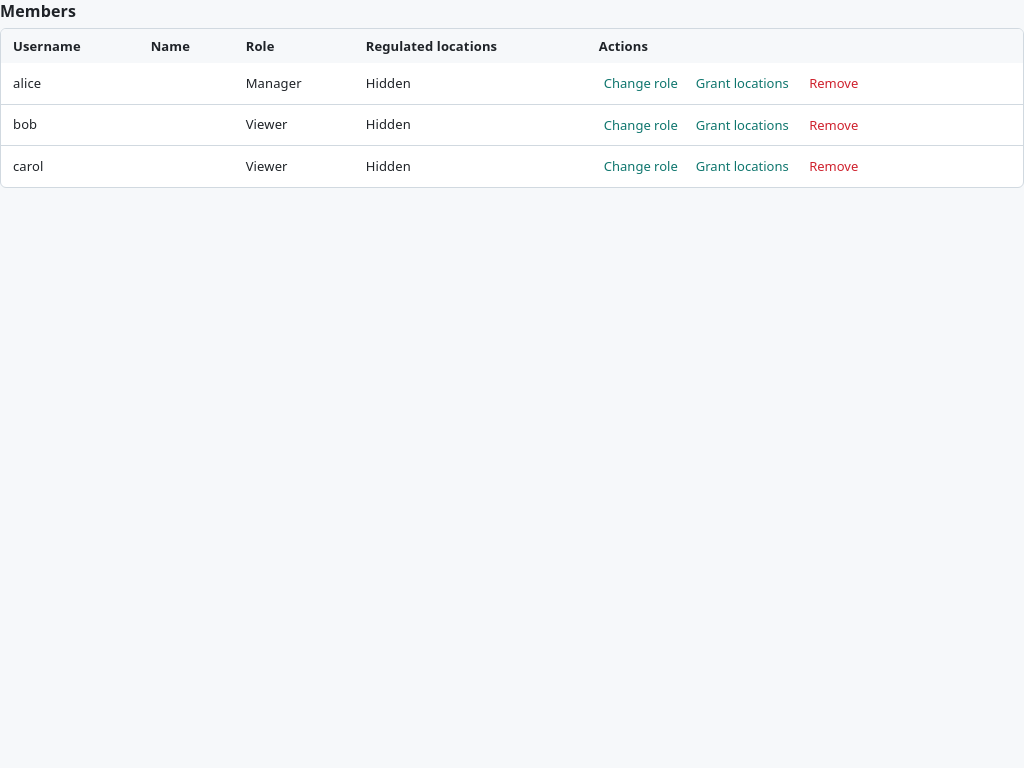
Test: focus after a dialog › goes to the previous row when the removed row was the last one
Expected: the table named "Members" is shown, [1,29,1023,187]
Click the button with aria-label "Remove carol" at point(834, 167), box [802,152,866,182]
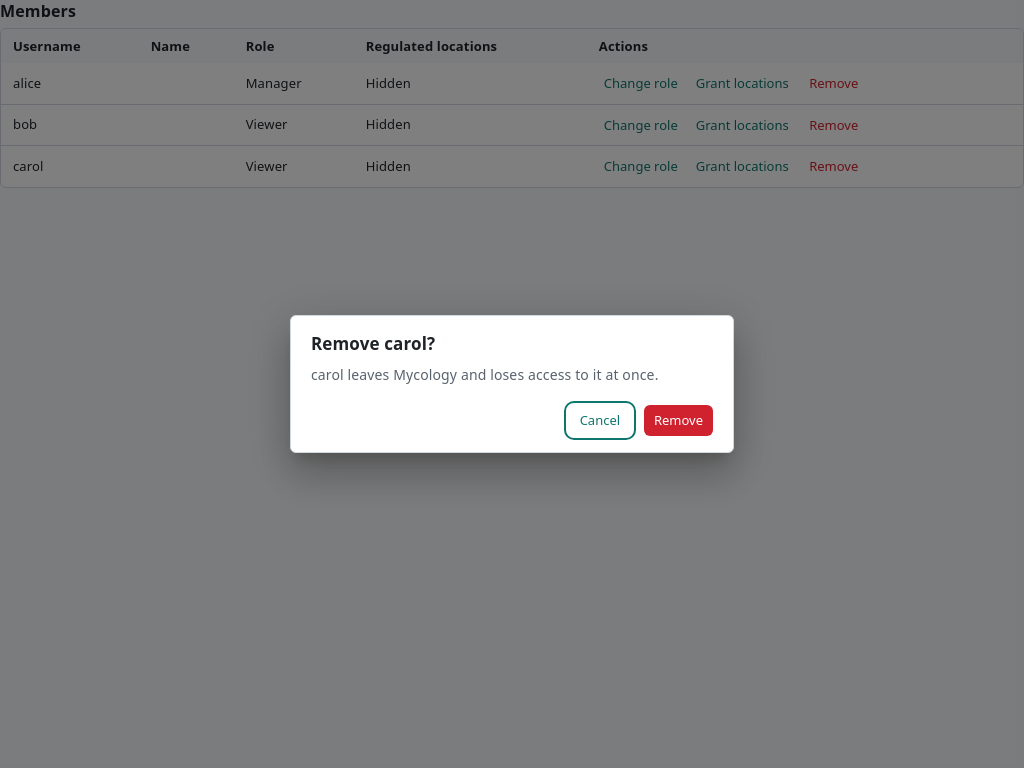
Click the button "Remove" at point(678, 420), box [644,405,713,436]
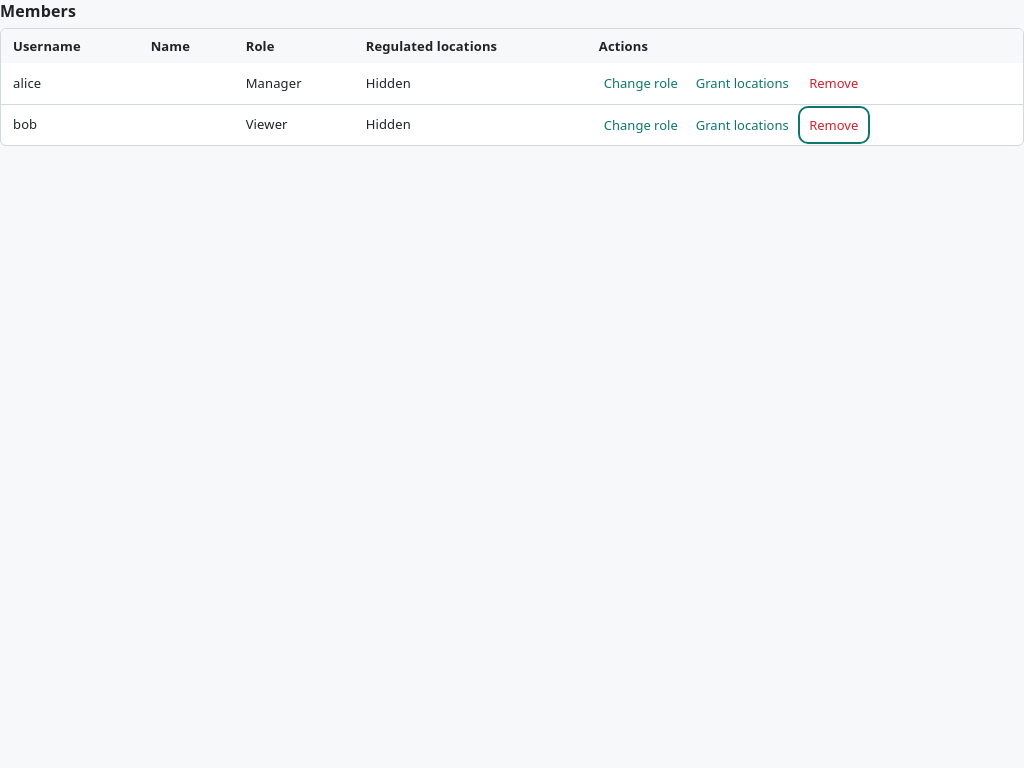
Result: the dialog is gone
Result: the cell "carol" is gone
